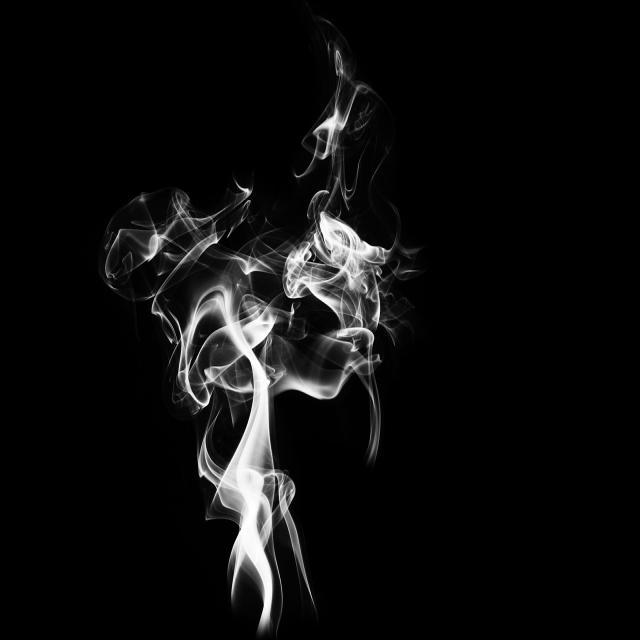Smoke: (104, 41, 421, 634)
